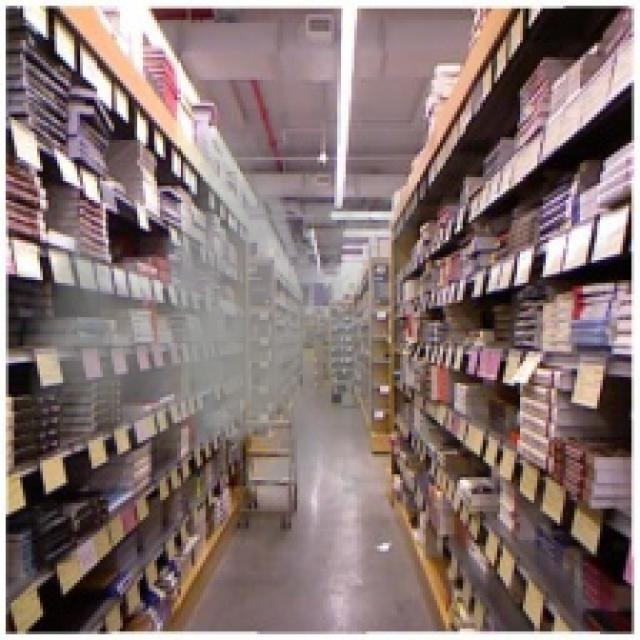smoke: (29, 111, 420, 523)
